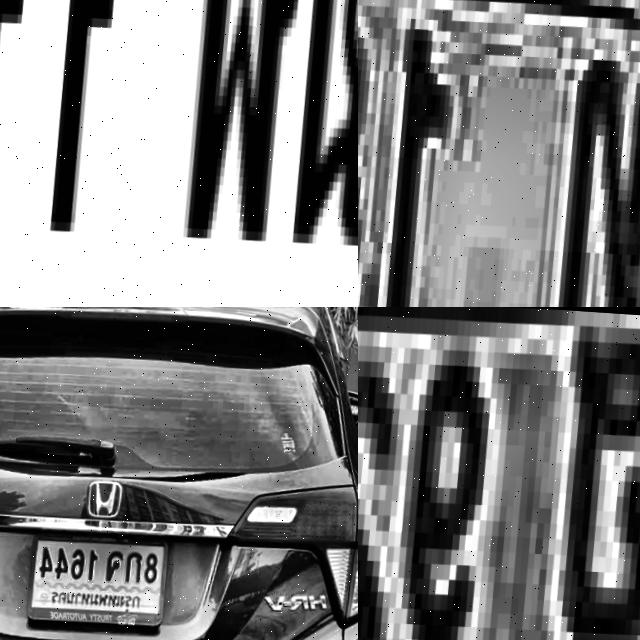license-plate: (0, 0, 358, 307), (358, 307, 640, 640), (358, 0, 640, 307), (29, 520, 175, 627)
